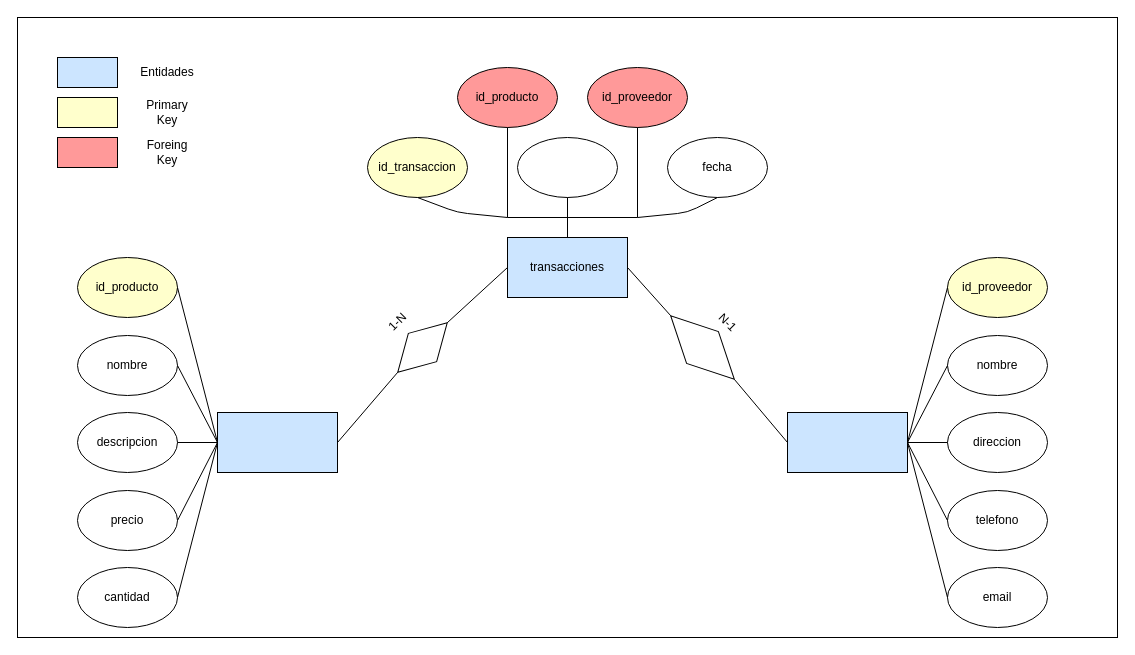
Image size: 1135x655. Some labels were removed from this diagram. The shapes that lost their labels are listed below. From the top down, each one's centre as x and y in pixels, then its label:
At (567,167): "tipo".
At (422,347): "Incluye".
At (702,347): "Suministra".
At (277,442): "productos".
At (847,442): "proveedores".
